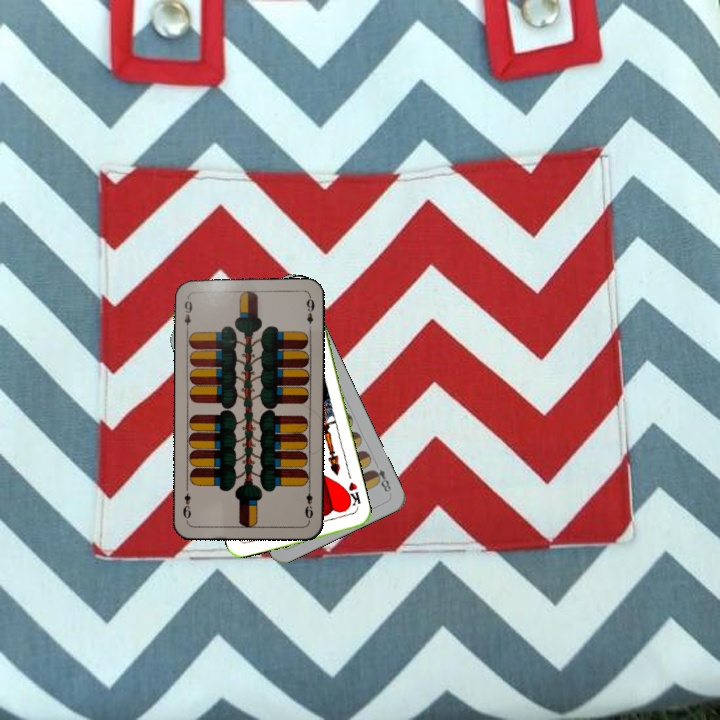E8: (368, 465, 394, 495)
E9: (180, 293, 195, 334), (301, 482, 315, 523)
HK: (340, 478, 363, 513)
